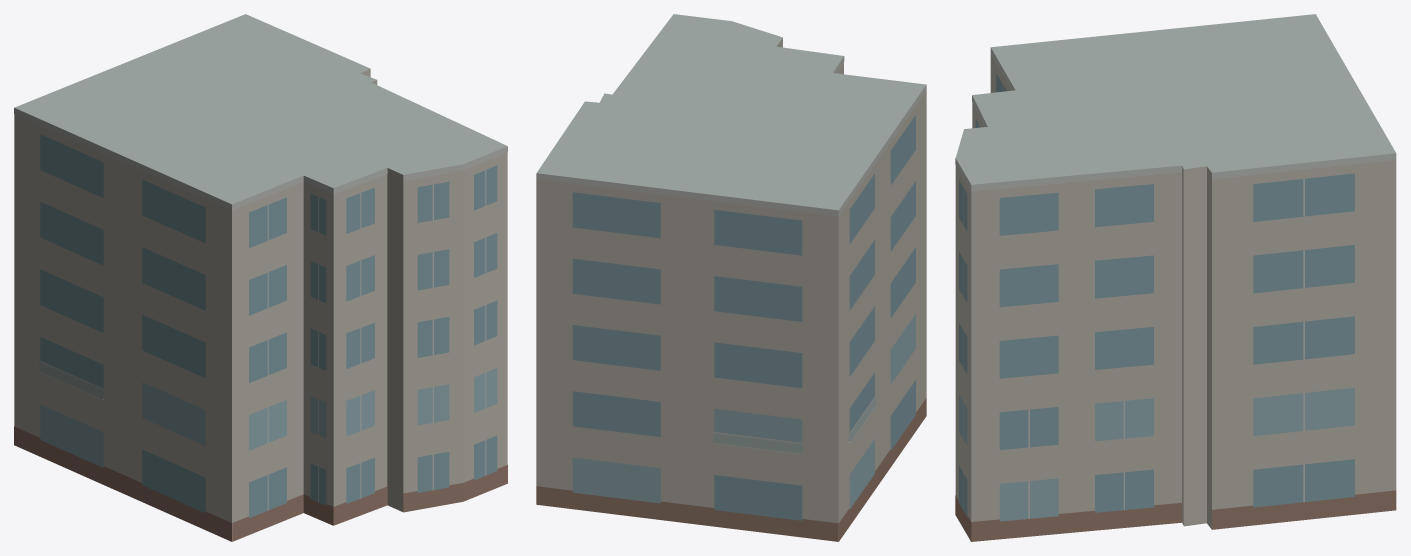
The model's file is survey-upis-32955204.glb.
The picture shows the model from 3 angles, left to right: view 1: azimuth 30°, elevation 25°; view 2: azimuth 150°, elevation 25°; view 3: azimuth 270°, elevation 25°; orthographic projection. The views are drawn at different scales.
Visible parts, largest first — view 1: survey-upis-32955204.tmp; view 2: survey-upis-32955204.tmp; view 3: survey-upis-32955204.tmp.
Boxes of the visible parts, left/top/right/bottom form: survey-upis-32955204.tmp: left=14, top=14, right=507, bottom=541; survey-upis-32955204.tmp: left=536, top=14, right=926, bottom=541; survey-upis-32955204.tmp: left=955, top=14, right=1396, bottom=541.
Size of the model in its own units: 13.55 by 13.2 by 14.78.
